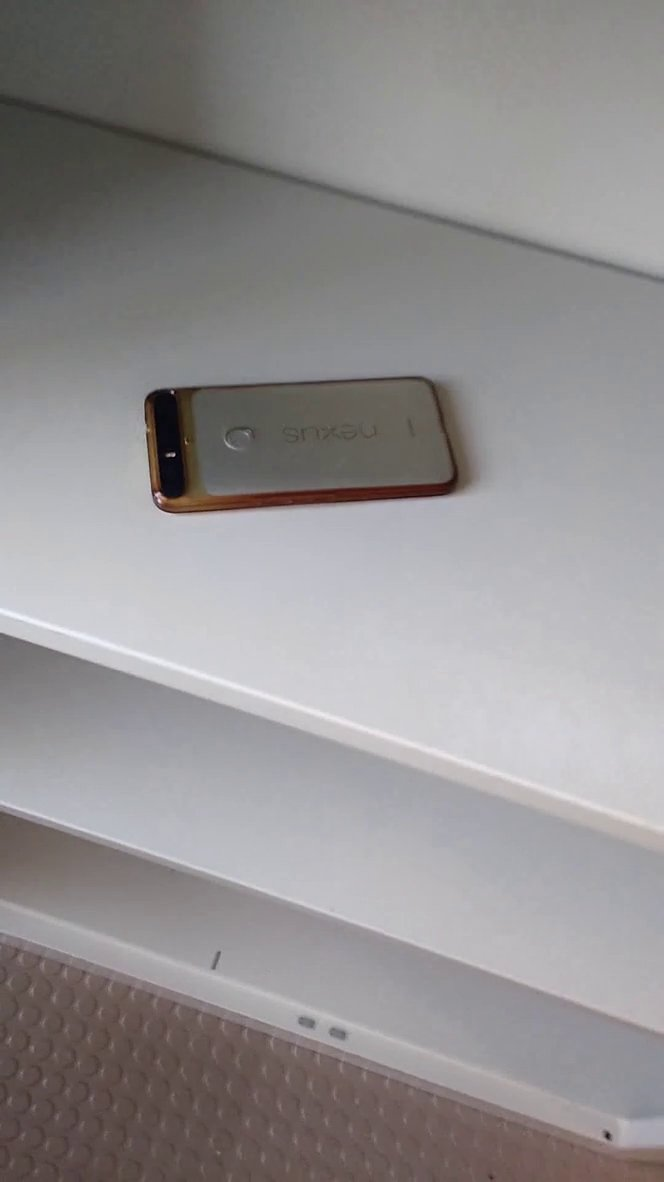phone: (127, 361, 471, 523)
